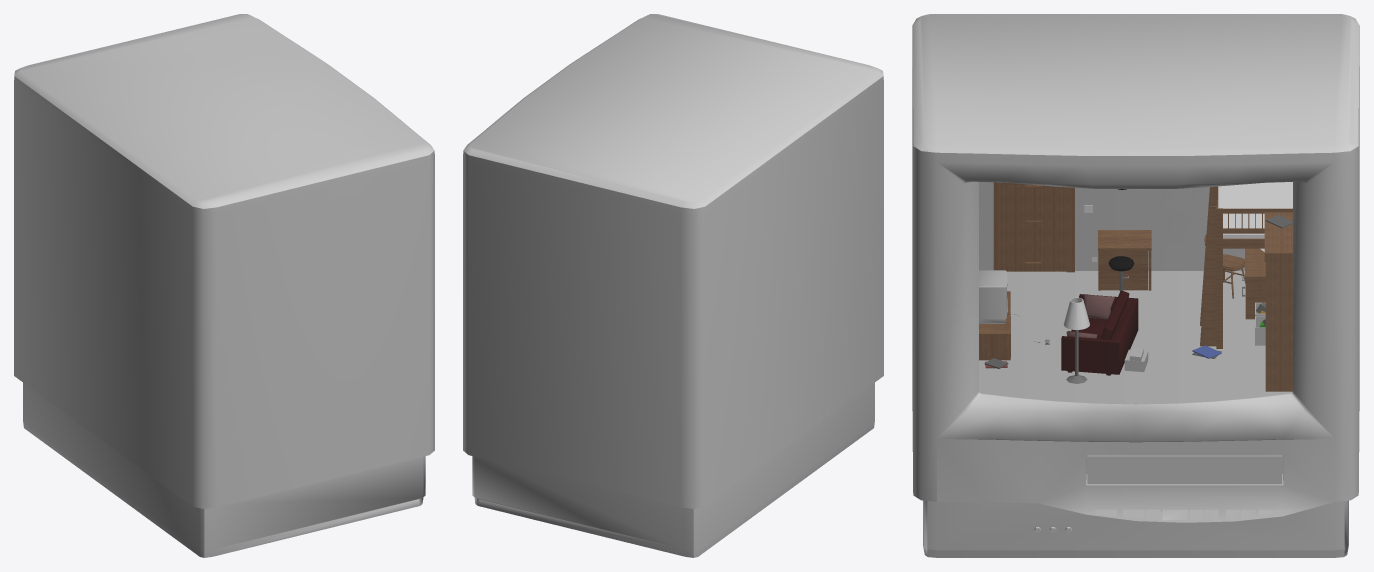
File: room_lowpoly_008_rdy4exp_CM.fbx
The picture shows the model from 3 angles, left to right: view 1: azimuth 30°, elevation 25°; view 2: azimuth 150°, elevation 25°; view 3: azimuth 270°, elevation 25°; orthographic projection. The views are drawn at different scales.
Parts seen in each view (by area): view 1: tv_bl; view 2: tv_bl; view 3: tv_bl, tv_glass, down, walls, polySurface646, bookshelf, sofa, polySurface730, Box086, tv_buttons, Box035, tv_bl001 (+8 smaller).
Part boxes in pixels (bbox=[...]): tv_bl: bbox=[14, 14, 434, 557]; tv_bl: bbox=[463, 14, 883, 557]; tv_bl: bbox=[912, 14, 1359, 557]; tv_glass: bbox=[979, 182, 1292, 403]; down: bbox=[979, 271, 1292, 404]; walls: bbox=[979, 182, 1244, 270]; polySurface646: bbox=[1000, 182, 1066, 271]; bookshelf: bbox=[1264, 212, 1292, 391]; sofa: bbox=[1061, 290, 1138, 375]; polySurface730: bbox=[1098, 230, 1151, 290]; Box086: bbox=[1218, 182, 1292, 238]; tv_buttons: bbox=[1034, 509, 1289, 533]; Box035: bbox=[1200, 206, 1216, 346]; tv_bl001: bbox=[979, 270, 1007, 323].
Size of the model in its own units: 219 by 297 by 290.
